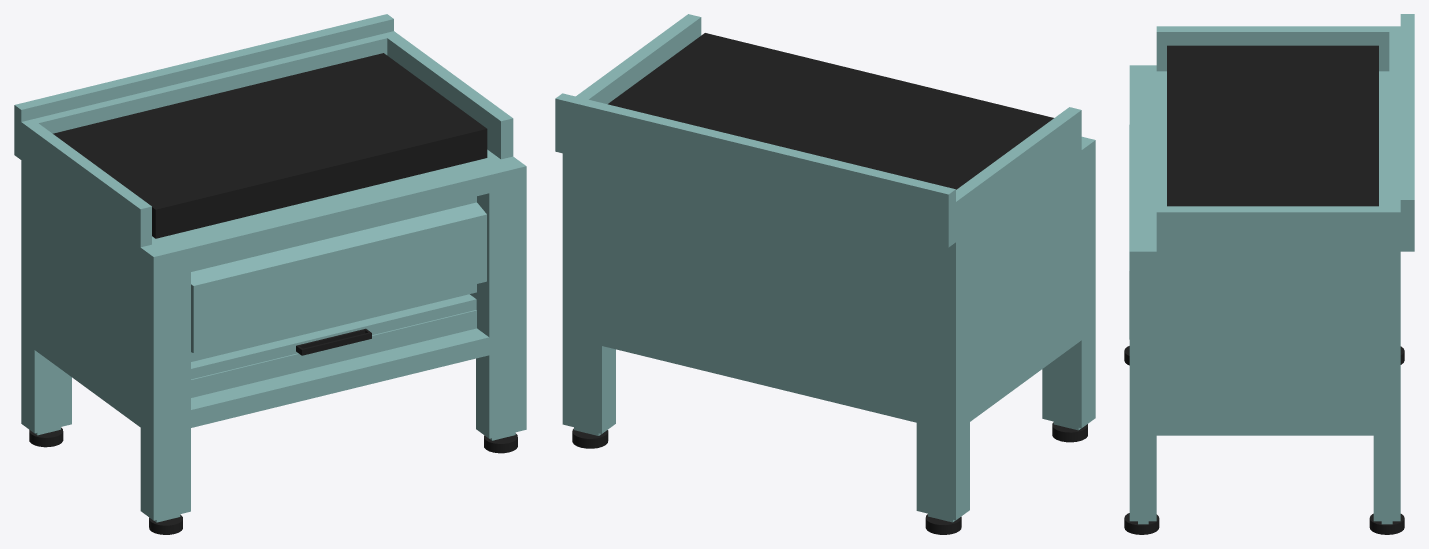
The model's file is Grill04.fbx.
3 views of the same model, side by side, from view 1: azimuth 30°, elevation 25°; view 2: azimuth 150°, elevation 25°; view 3: azimuth 270°, elevation 25° (orthographic). The views are drawn at different scales.
Visible parts, largest first — view 1: polySurface4, polySurface1, polySurface3; view 2: polySurface4, polySurface1; view 3: polySurface4, polySurface1, pasted__pCylinder1, pasted__pasted__pCylinder1.
Part boxes in pixels (x1,y1,x2,y2): polySurface4: (14,14,526,522); polySurface1: (53,53,487,238); polySurface3: (296,328,371,355); polySurface4: (555,14,1095,522); polySurface1: (608,33,1053,189); polySurface4: (1129,14,1414,524); polySurface1: (1167,45,1378,206); pasted__pCylinder1: (1124,513,1159,534); pasted__pasted__pCylinder1: (1369,513,1404,534).
Bounding box in the file's own units: 160 × 135 × 106.
